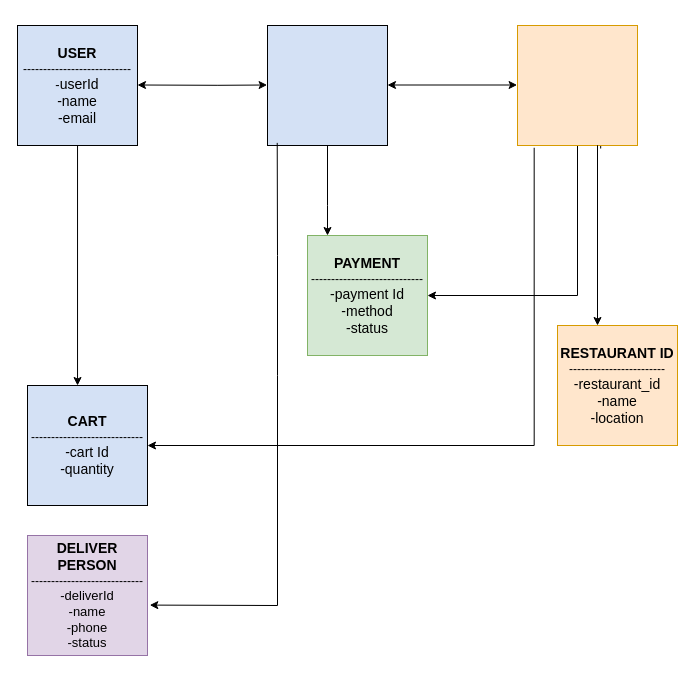
The diagram is 695 pixels wide and 673 high, and some of its shapes have lost their labels. The shapes that lost their labels are listed below. From the top down, each one's centre as x and y in pixels, then its label:
[327,85]: ORDER ----------------------------- -orderId -status -total amount -order time -
[577,85]: MENU ITEM ---------------------------- -Item Id -Name -price -Phone description
